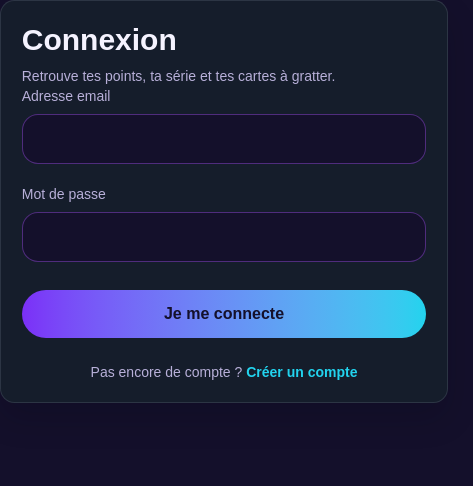
it: mode connexion › affiche une erreur traduite quand le réseau échoue
In the field labelled "Adresse email": x=224, y=139 [22, 114, 426, 164], type "lyra@example.com"
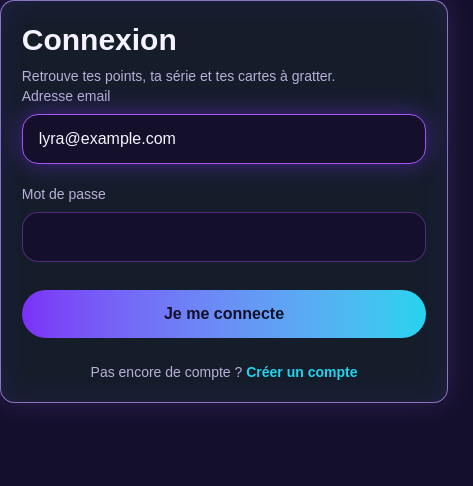
In the password field labelled "Mot de passe": x=224, y=237 [22, 212, 426, 262], type "mauvais"
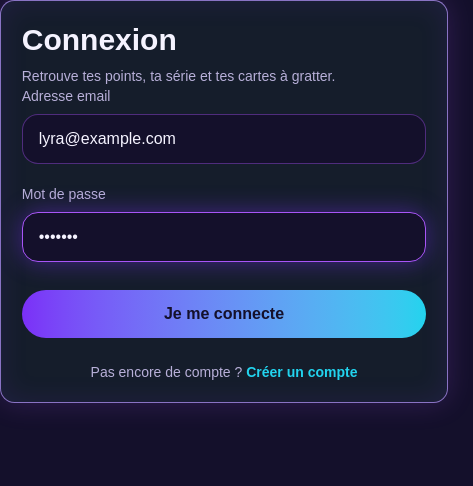
Click the button "Je me connecte": x=224, y=314 [22, 290, 426, 338]
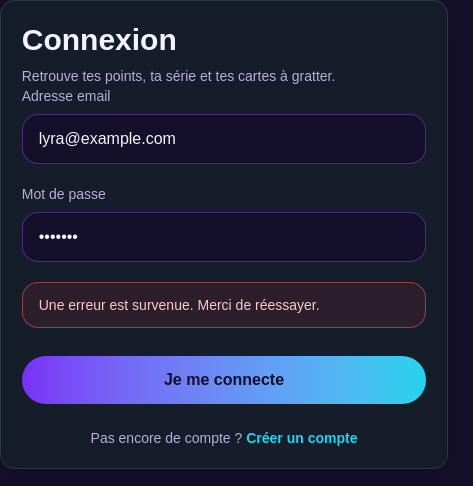
Expected: the button "Je me connecte" is enabled, [22, 356, 426, 404]
Expected: the message reads "Une erreur est survenue. Merci de réessayer.", [39, 297, 320, 313]
